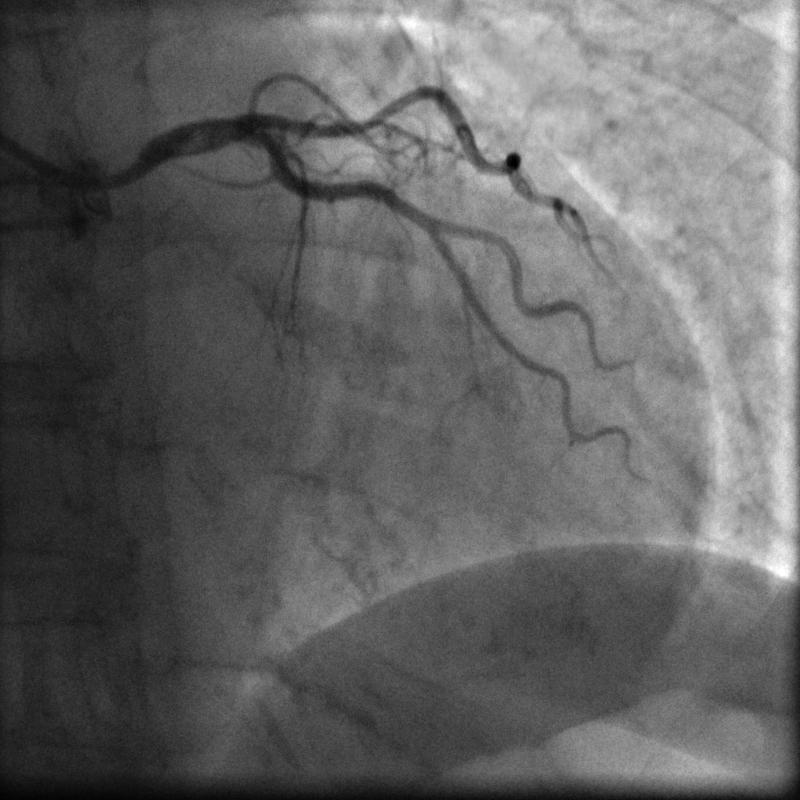Stenosis: (316, 123, 339, 137)
